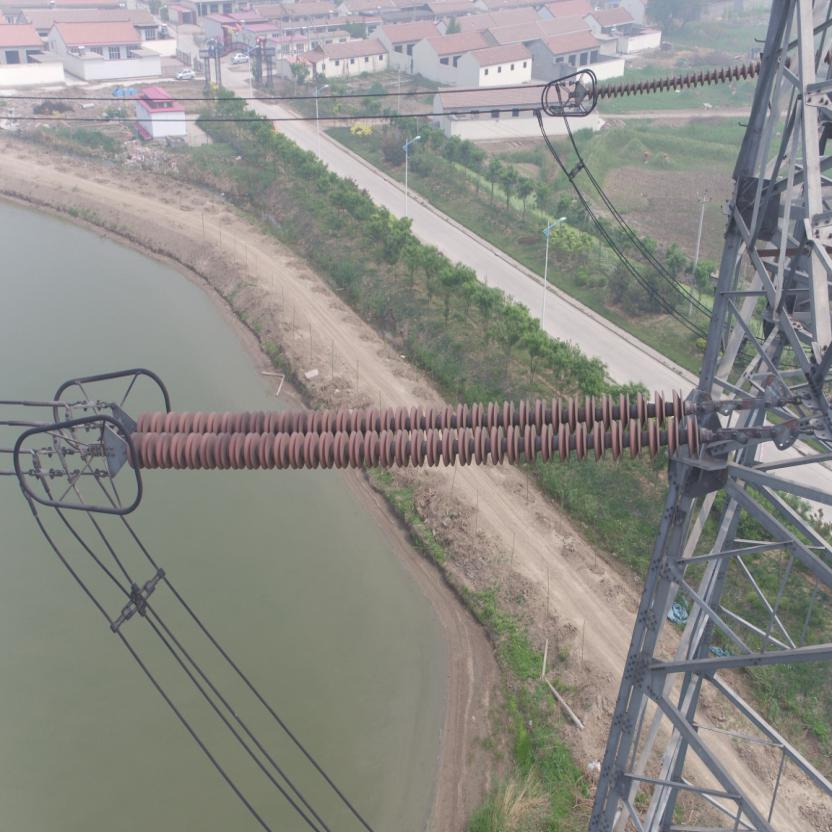insulator: (122, 386, 772, 471), (580, 59, 758, 101)
